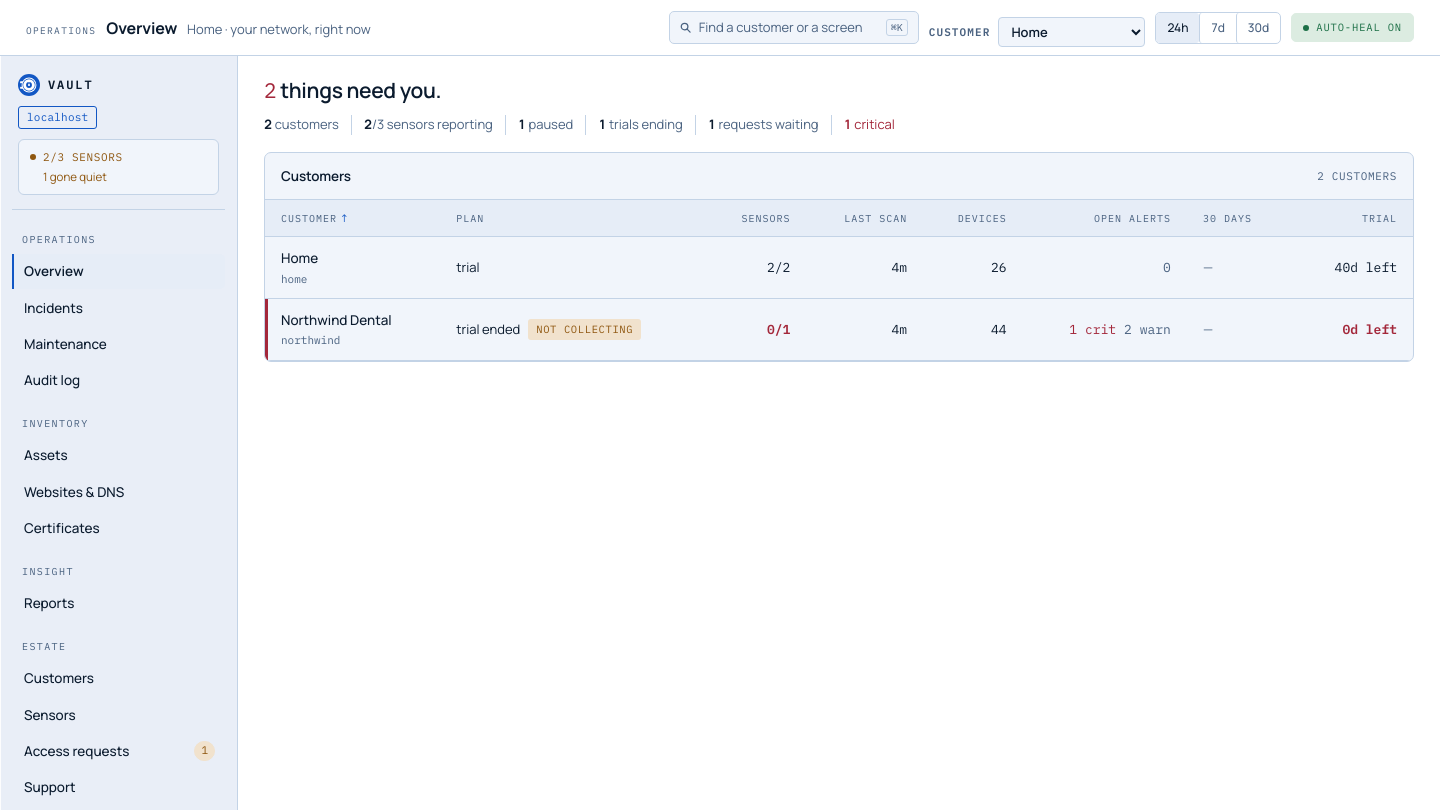
owner console › offers the console's own screens too, so 'billing' is reachable by name
Click the button "Find a customer or a screen ⌘K" at (794, 28), box top-left (669, 11), bottom-right (919, 44)
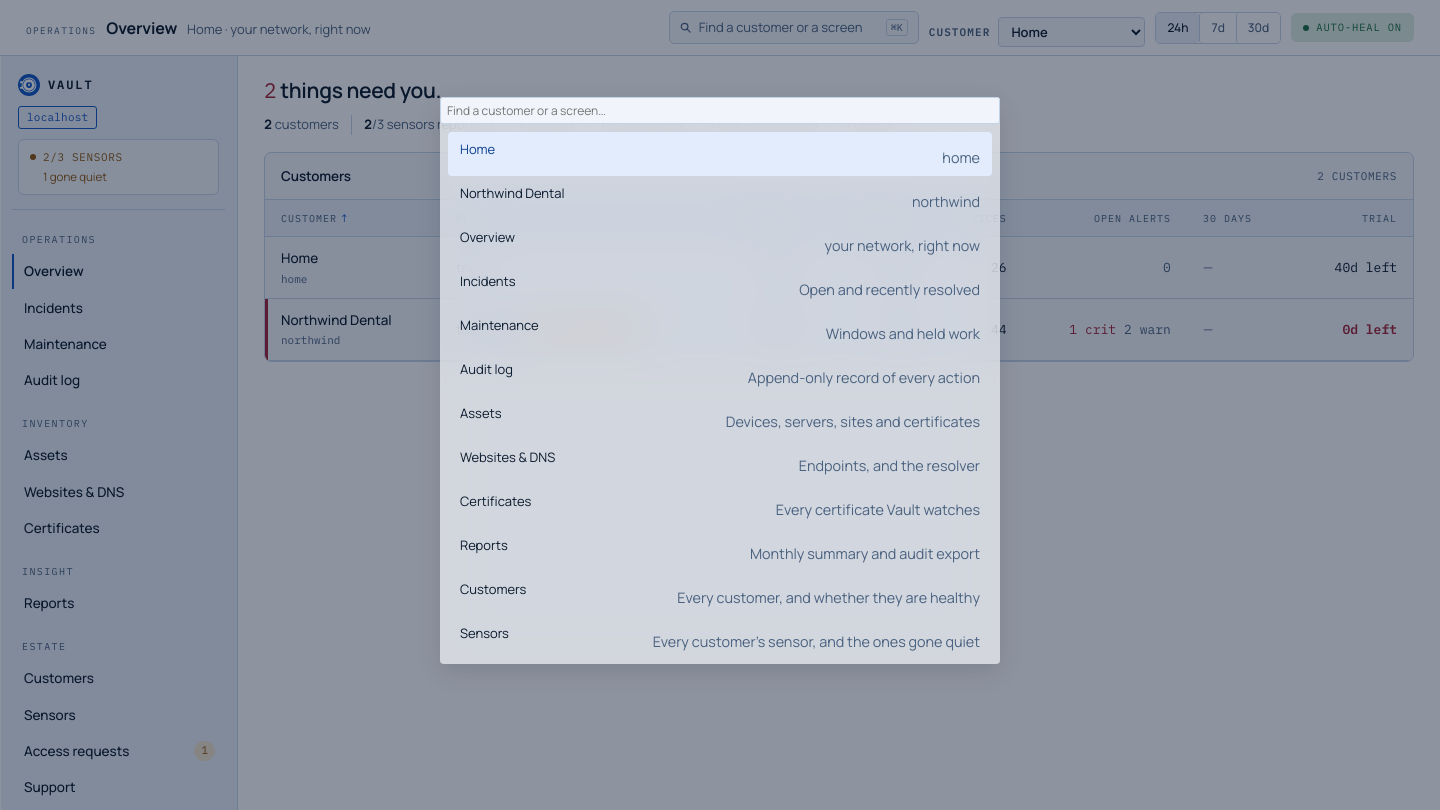
Type "billing" into the dropdown labelled "Find a customer or a screen…" at (720, 111), box top-left (440, 97), bottom-right (1000, 124)
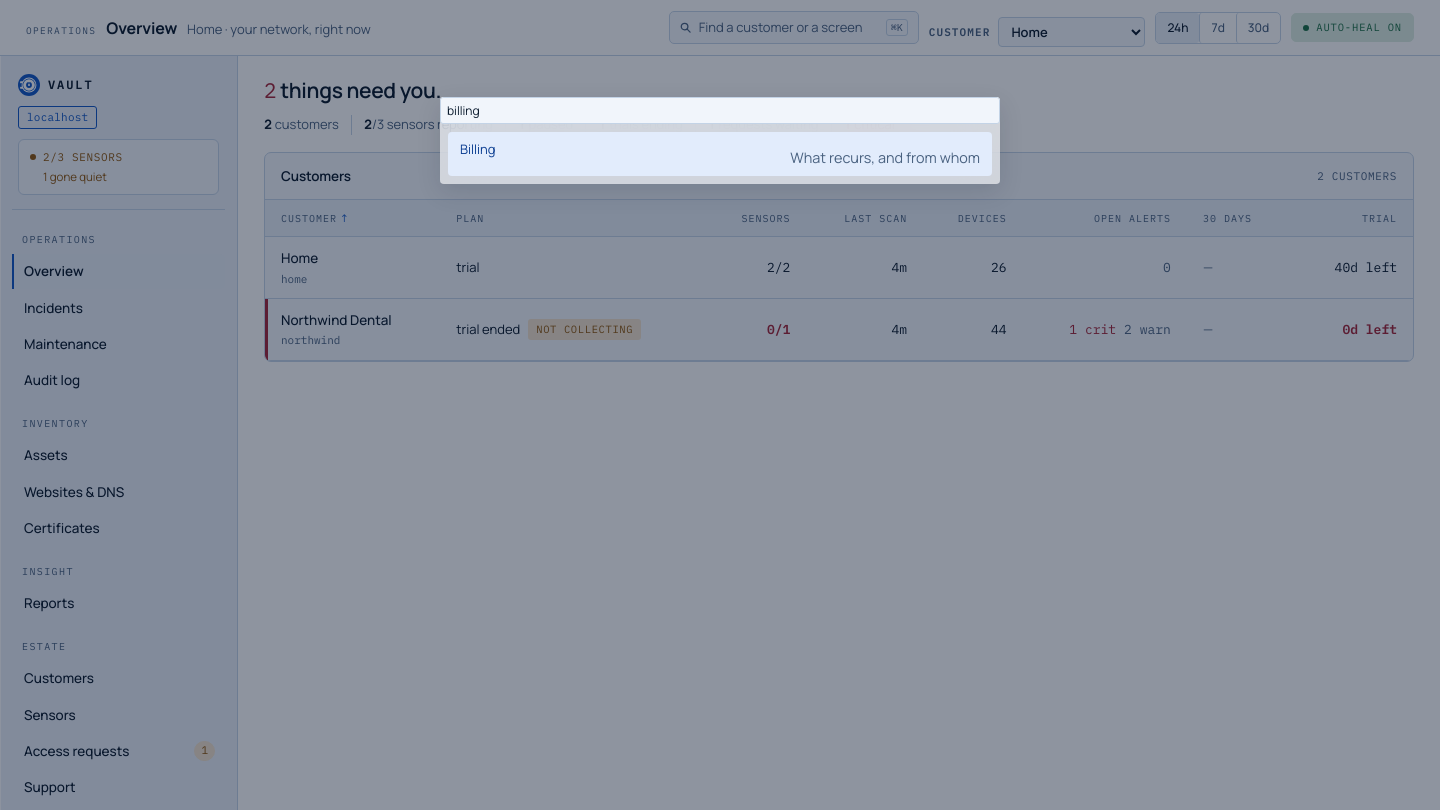
Expected: the option shows "Billing", top-left (448, 132), bottom-right (992, 176)
